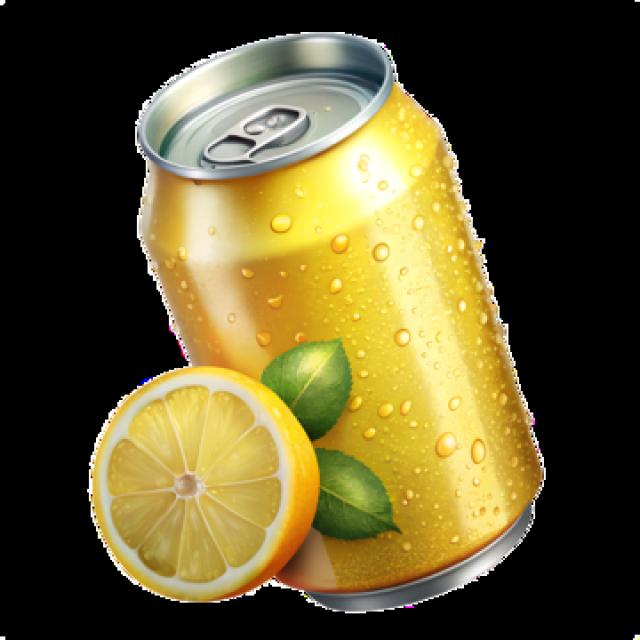soda_can: (123, 17, 585, 637)
